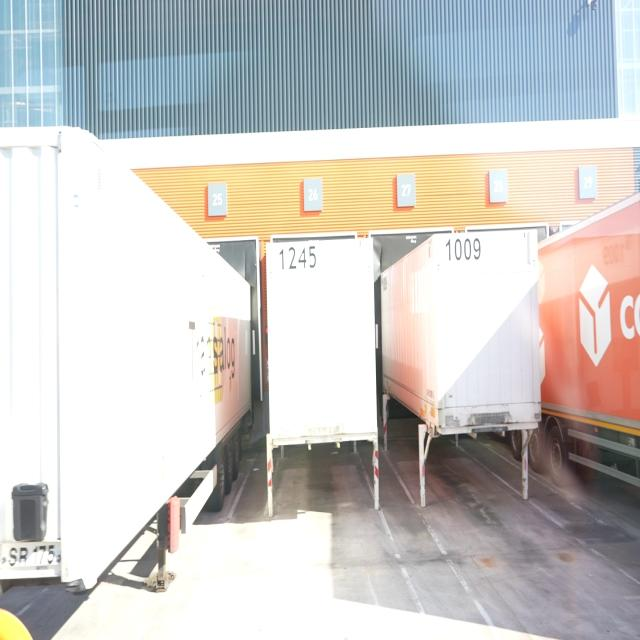Code: (274, 244, 324, 277), (442, 234, 484, 268)
